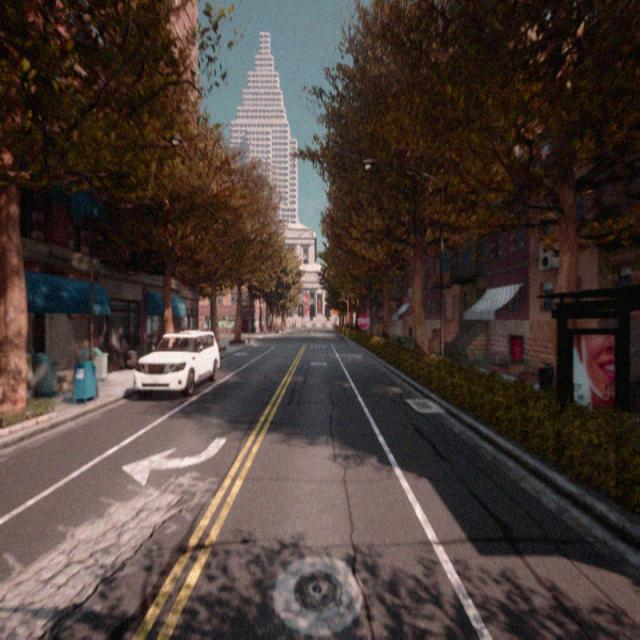stop sign: (354, 309, 370, 331)
